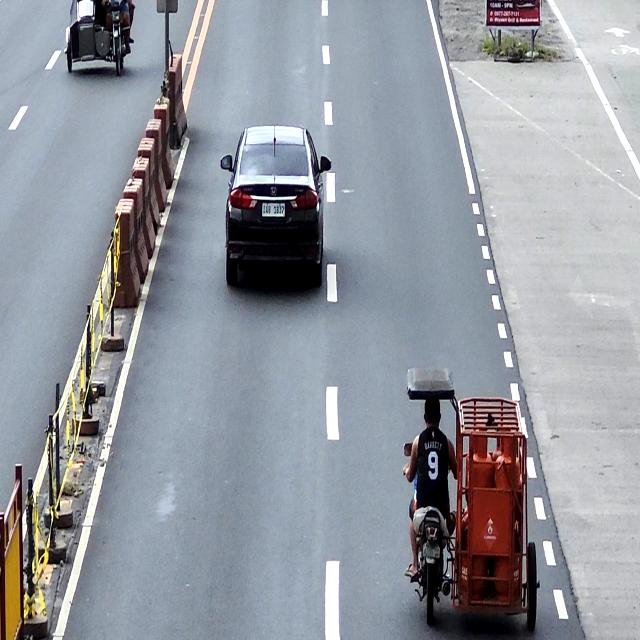Car: (220, 122, 332, 290)
License-Plate: (260, 202, 286, 218), (421, 541, 441, 559)
Tricycle: (405, 367, 541, 633), (63, 0, 136, 76)
